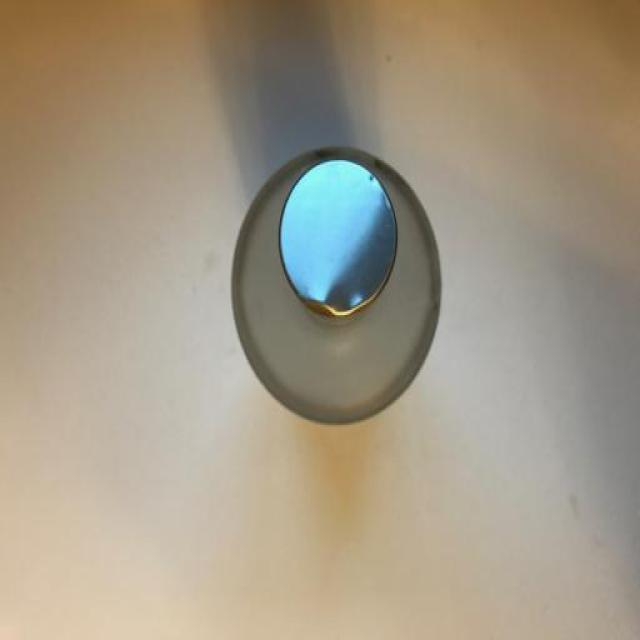Glass: (230, 143, 441, 424)
